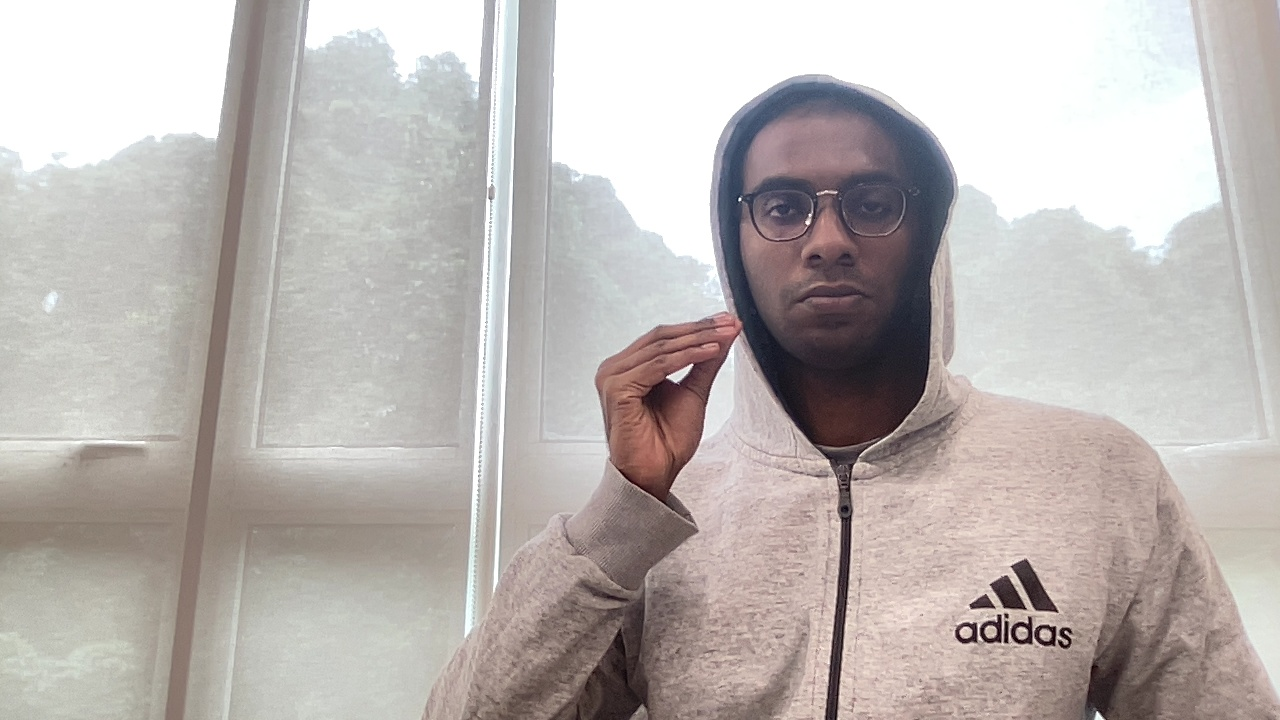eat: (591, 308, 748, 475)
